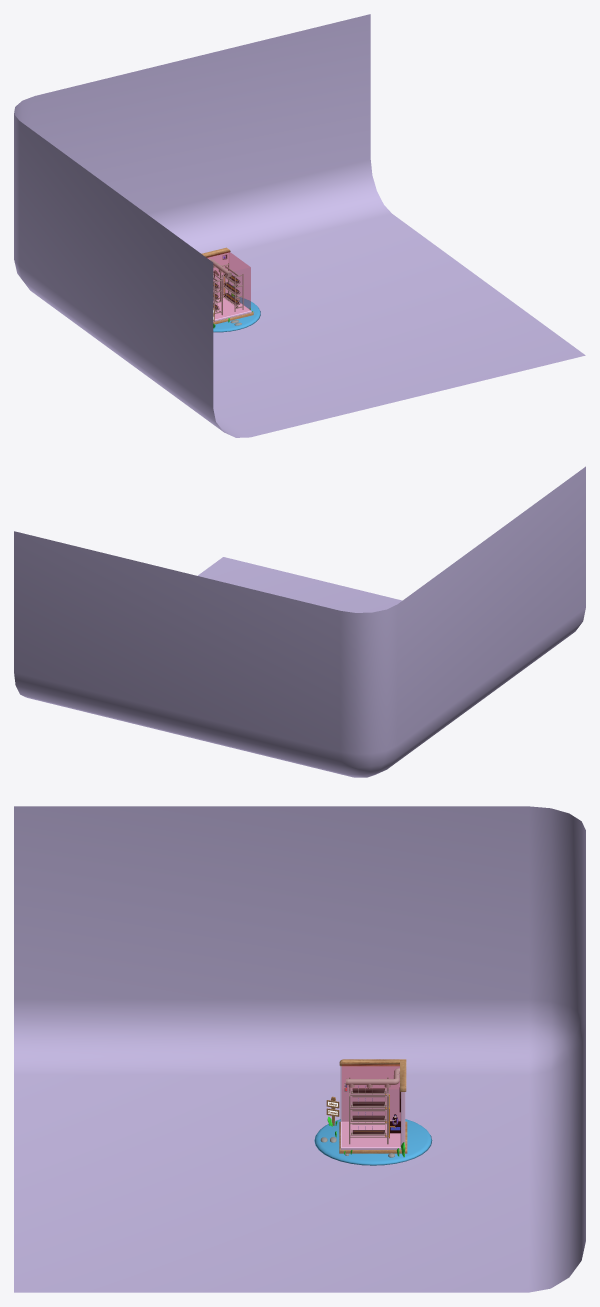
The model's file is FarmLab_WhiteRoom06a.glb.
3 views of the same model, one above another, from view 1: azimuth 30°, elevation 25°; view 2: azimuth 150°, elevation 25°; view 3: azimuth 270°, elevation 25° (orthographic). The views are drawn at different scales.
Parts seen in each view (by area): view 1: BackGround, HeatWarn1, Room, Racks, Grass; view 2: BackGround; view 3: BackGround, HeatWarn1, Room, Grass, Racks, PlantBase.
Boxes of the visible parts, x1=… form: BackGround: x1=14, y1=14, x2=585, y2=437; HeatWarn1: x1=207, y1=251, x2=250, y2=318; Room: x1=201, y1=247, x2=253, y2=324; Racks: x1=213, y1=263, x2=243, y2=316; Grass: x1=213, y1=296, x2=260, y2=332; BackGround: x1=14, y1=466, x2=585, y2=777; BackGround: x1=14, y1=806, x2=585, y2=1292; HeatWarn1: x1=342, y1=1065, x2=400, y2=1146; Room: x1=339, y1=1059, x2=407, y2=1153; Grass: x1=314, y1=1119, x2=432, y2=1165; Racks: x1=349, y1=1077, x2=388, y2=1144; PlantBase: x1=352, y1=1088, x2=384, y2=1134.
Bounding box in the file's own units: 74.11 × 34.95 × 74.11.
Materials: 26 (2 with a texture image).
